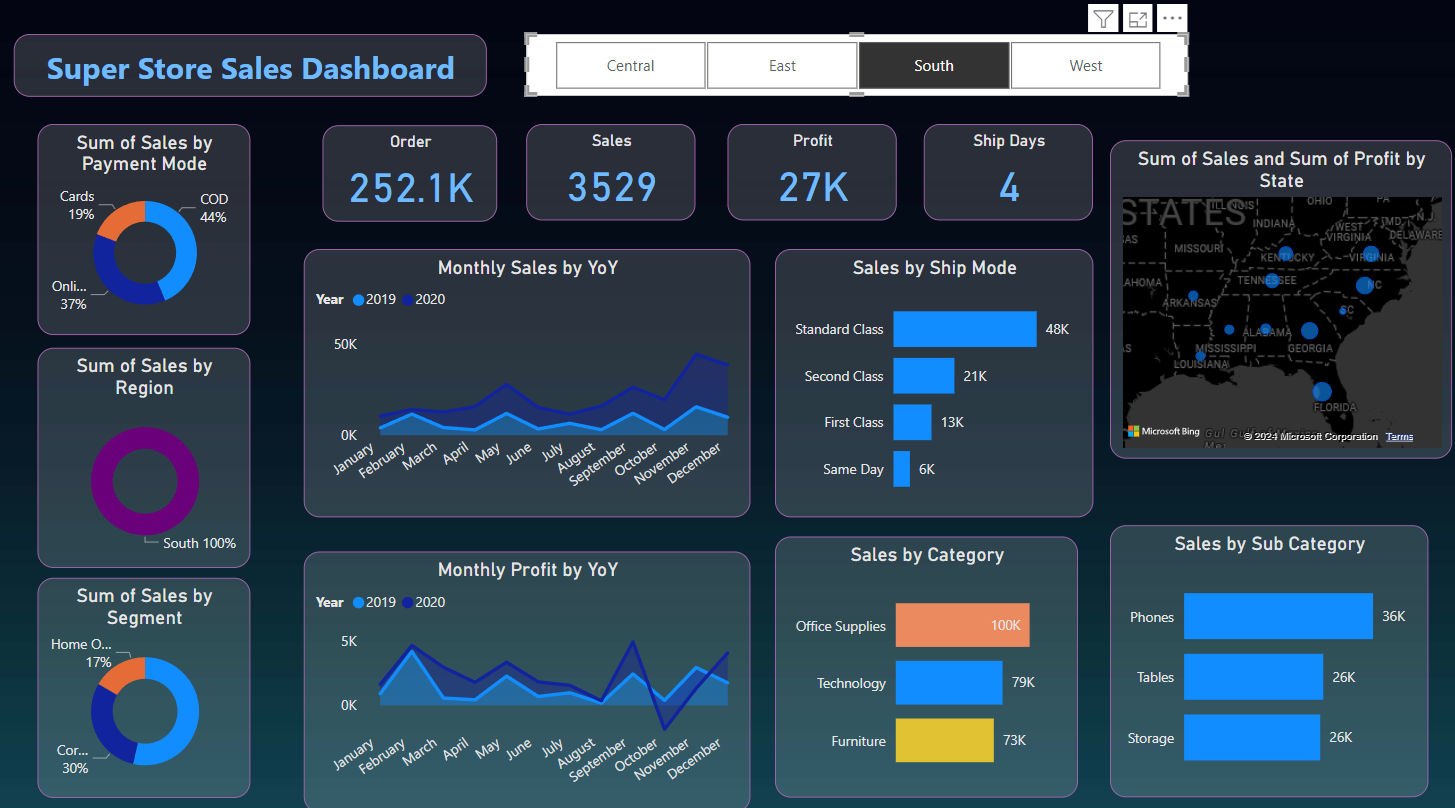

This screenshot's page, from the dashboard's own definition file:
{"tool":"powerbi","page":{"name":"Page 1","canvas":[1280,720],"ordinal":0},"visuals":[{"type":"clusteredBarChart","title":" Sales by Category","fields":{"Category":["SuperStore_Sales_Dataset.Category"],"Y":["Sum(SuperStore_Sales_Dataset.Sales)"]},"box":[681.9,477.2,266.6,229.7],"z":0},{"type":"clusteredBarChart","title":" Sales by Sub Category","fields":{"Category":["SuperStore_Sales_Dataset.Sub-Category"],"Y":["Sum(SuperStore_Sales_Dataset.Sales)"]},"box":[975.9,467.7,279.7,239.2],"z":1000},{"type":"clusteredBarChart","title":" Sales by Ship Mode","fields":{"Category":["SuperStore_Sales_Dataset.Ship Mode"],"Y":["Sum(SuperStore_Sales_Dataset.Sales)"]},"box":[681.9,223.7,279.7,235.6],"z":2000},{"type":"stackedAreaChart","title":" Monthly Sales by YoY ","fields":{"Y":["Sum(SuperStore_Sales_Dataset.Sales)"],"Category":["SuperStore_Sales_Dataset.Order Date.Variation.Date Hierarchy.Month","SuperStore_Sales_Dataset.Order Date.Variation.Date Hierarchy.Day"],"Series":["SuperStore_Sales_Dataset.Order Date.Variation.Date Hierarchy.Year"]},"box":[266.6,223.7,392.7,235.6],"z":3000},{"type":"stackedAreaChart","title":" Monthly Profit by YoY ","fields":{"Category":["SuperStore_Sales_Dataset.Order Date.Variation.Date Hierarchy.Month","SuperStore_Sales_Dataset.Order Date.Variation.Date Hierarchy.Day"],"Series":["SuperStore_Sales_Dataset.Order Date.Variation.Date Hierarchy.Year"],"Y":["Sum(SuperStore_Sales_Dataset.Profit)"]},"box":[266.6,490.3,392.7,229.7],"z":4000},{"type":"map","fields":{"Category":["SuperStore_Sales_Dataset.State"],"Size":["Sum(SuperStore_Sales_Dataset.Sales)"]},"box":[975.6,129,300.5,279.9],"z":5000},{"type":"donutChart","fields":{"Category":["SuperStore_Sales_Dataset.Segment"],"Y":["Sum(SuperStore_Sales_Dataset.Sales)"]},"box":[33.3,512.9,186.8,194],"z":6000},{"type":"donutChart","fields":{"Category":["SuperStore_Sales_Dataset.Payment Mode"],"Y":["Sum(SuperStore_Sales_Dataset.Sales)"]},"box":[33.3,114.2,186.8,185.7],"z":7000},{"type":"slicer","fields":{"Values":["SuperStore_Sales_Dataset.Region"]},"box":[462.9,35.7,582,54.7],"z":8000},{"type":"textbox","box":[12.3,35.7,415.8,54.9],"z":9000},{"type":"card","title":"Order","fields":{"Values":["Sum(SuperStore_Sales_Dataset.Sales)"]},"box":[283.2,115.4,153.5,84.5],"z":10000},{"type":"card","title":"Sales","fields":{"Values":["Sum(SuperStore_Sales_Dataset.Quantity)"]},"box":[462.9,114.2,148.8,84.5],"z":11000},{"type":"card","title":"Profit","fields":{"Values":["Sum(SuperStore_Sales_Dataset.Profit)"]},"box":[640.3,114.2,148.8,84.5],"z":12000},{"type":"card","title":"Ship Days","fields":{"Values":["Avg(SuperStore_Sales_Dataset.AvgDelivery)"]},"box":[812.8,114.2,148.8,84.5],"z":13000},{"type":"donutChart","fields":{"Category":["SuperStore_Sales_Dataset.Region"],"Y":["Sum(SuperStore_Sales_Dataset.Sales)"]},"box":[33.3,310.6,186.8,194],"z":14000}]}

Visuals, with their boxes in screenshot pixels (x1, y1, x2, y2):
" Sales by Category" clusteredBarChart: (774,536,1079,799)
" Sales by Sub Category" clusteredBarChart: (1111,525,1431,799)
" Sales by Ship Mode" clusteredBarChart: (774,245,1094,515)
" Monthly Sales by YoY " stackedAreaChart: (298,245,748,515)
" Monthly Profit by YoY " stackedAreaChart: (298,551,748,807)
map - SuperStore_Sales_Dataset.State x Sum(SuperStore_Sales_Dataset.Sales): (1111,136,1454,457)
donutChart - SuperStore_Sales_Dataset.Segment x Sum(SuperStore_Sales_Dataset.Sales): (31,576,245,799)
donutChart - SuperStore_Sales_Dataset.Payment Mode x Sum(SuperStore_Sales_Dataset.Sales): (31,120,245,332)
slicer - SuperStore_Sales_Dataset.Region: (523,30,1190,92)
textbox: (7,30,483,92)
"Order" card: (317,121,493,218)
"Sales" card: (523,120,693,216)
"Profit" card: (726,120,897,216)
"Ship Days" card: (924,120,1094,216)
donutChart - SuperStore_Sales_Dataset.Region x Sum(SuperStore_Sales_Dataset.Sales): (31,345,245,567)
